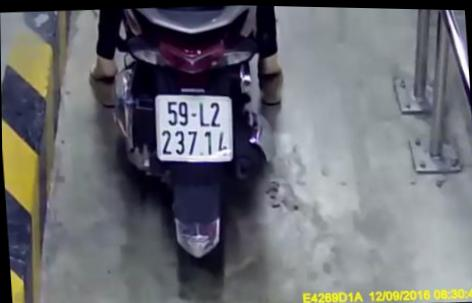LP: (152, 88, 235, 165)
